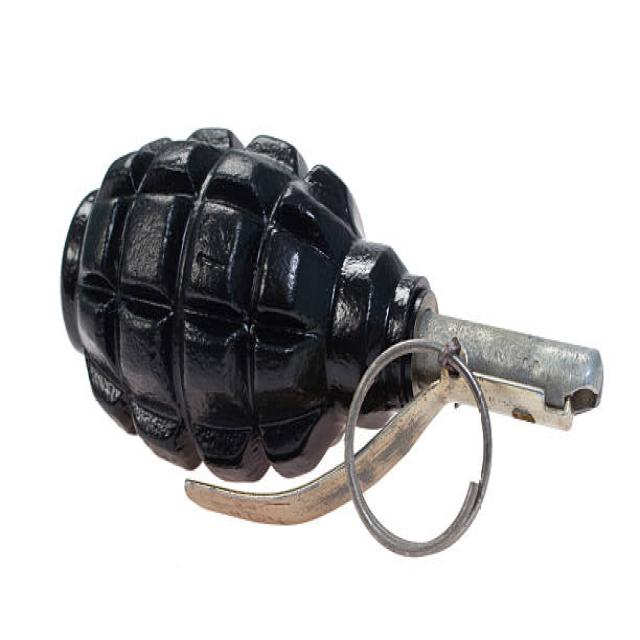grenade: (58, 120, 618, 567)
